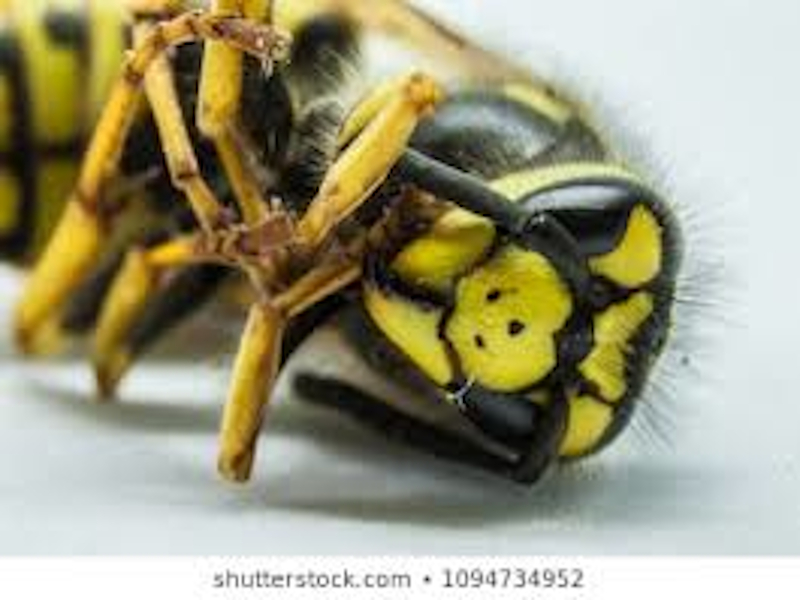chax: (18, 1, 731, 506)
